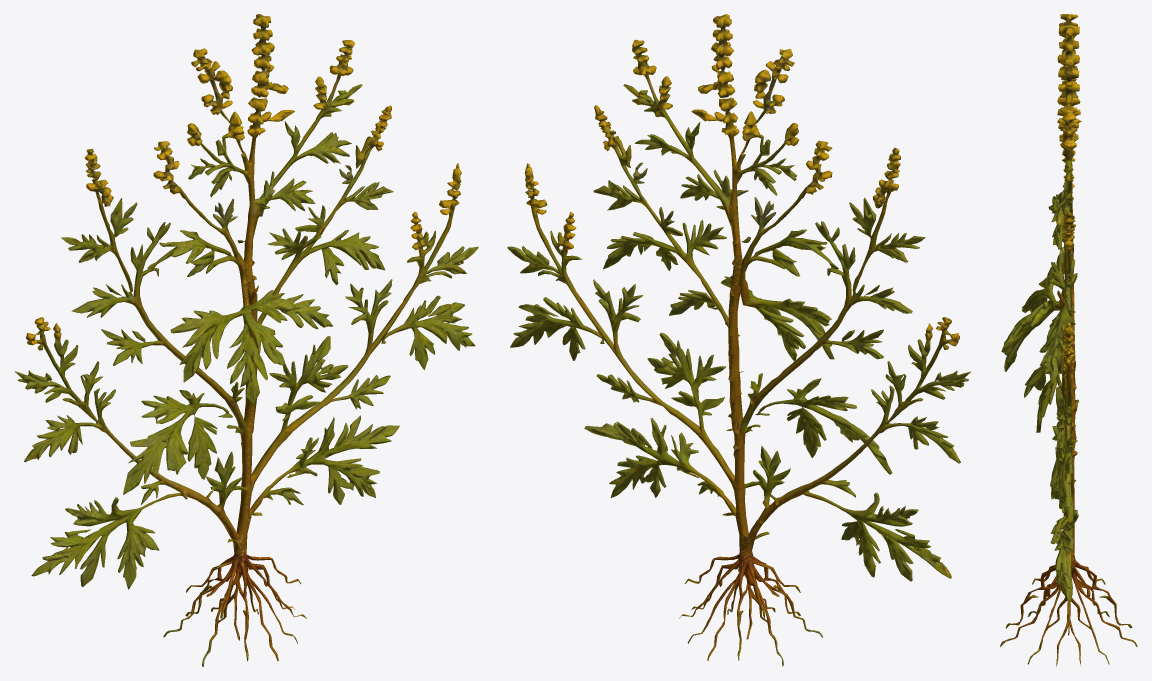
The model's file is Ragweed.glb.
The picture shows the model from 3 angles, left to right: view 1: azimuth 30°, elevation 25°; view 2: azimuth 150°, elevation 25°; view 3: azimuth 270°, elevation 25°; orthographic projection. The views are drawn at different scales.
Visible parts, largest first — view 1: Mesh_0; view 2: Mesh_0; view 3: Mesh_0.
Part boxes in pixels (box(x1,y1,x2,y2)): Mesh_0: box(14, 14, 478, 666); Mesh_0: box(507, 14, 970, 666); Mesh_0: box(1000, 14, 1137, 666).
Size of the model in its own units: 0.7858 by 1 by 0.1978.
1 material, 1 textured.
